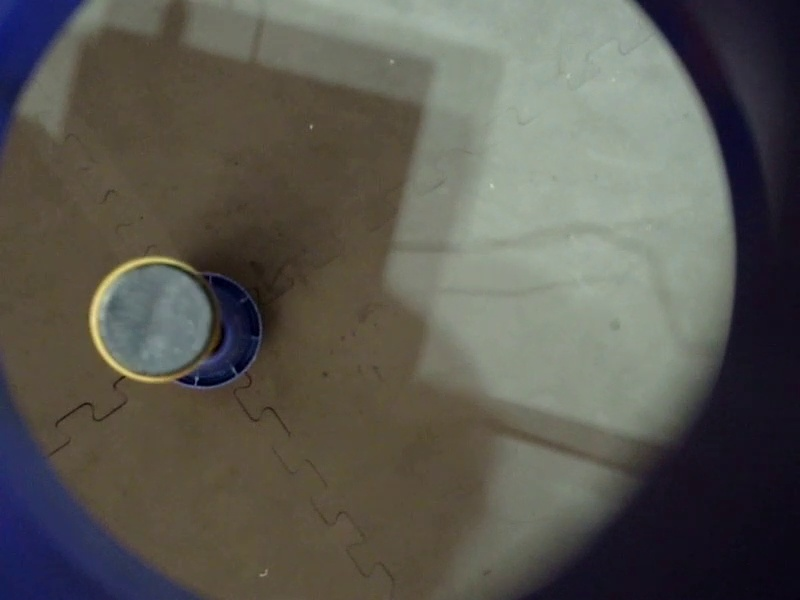tip: (88, 252, 219, 385)
